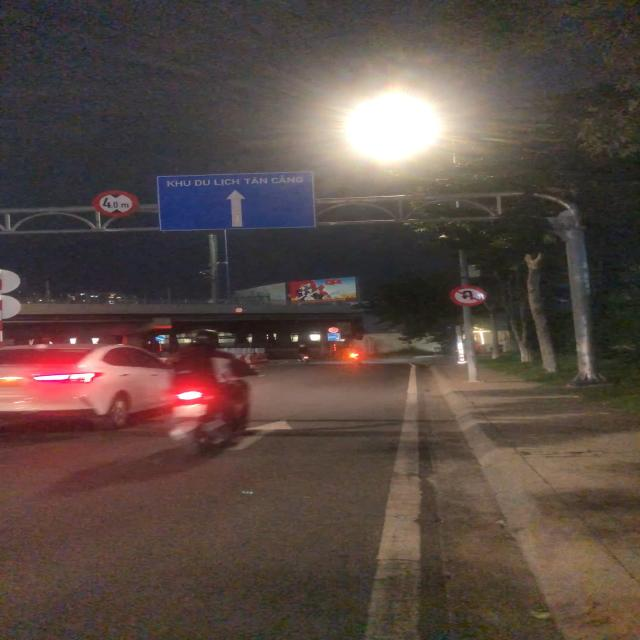Bien bao cam quay dau xe: (448, 284, 488, 308)
Bien bao han che chieu cao: (90, 189, 142, 218)
